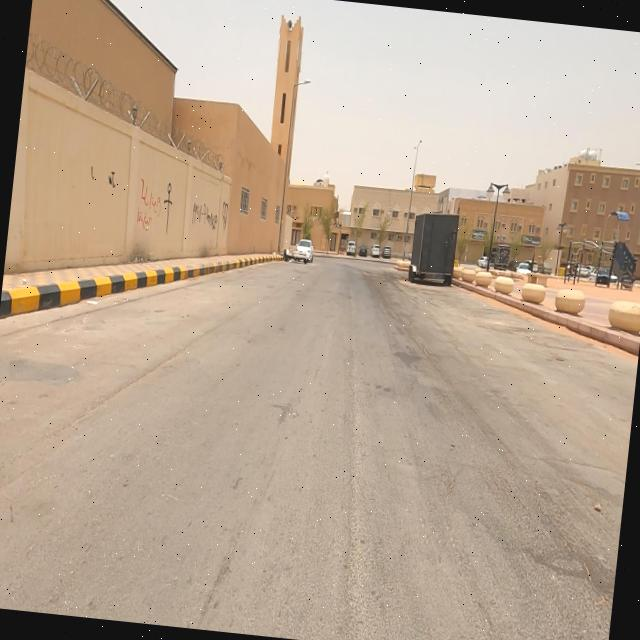Graffiti: (132, 177, 176, 237), (191, 202, 220, 233), (220, 200, 231, 233), (107, 171, 119, 190), (88, 165, 100, 181)
